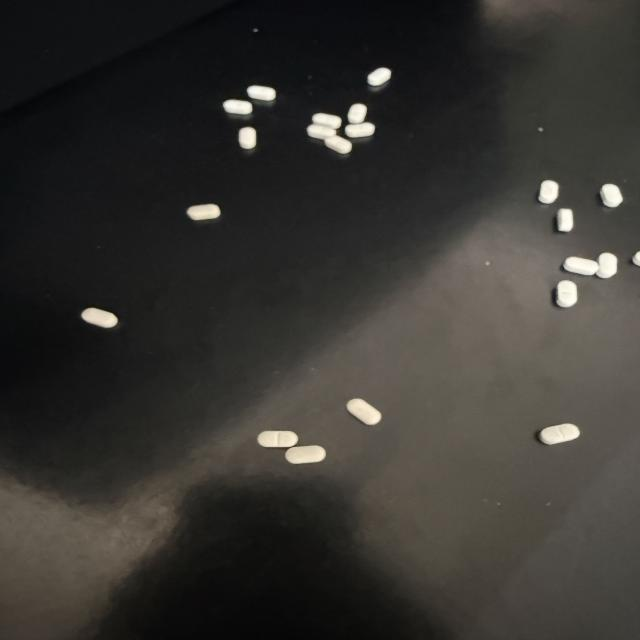pill: (347, 399, 381, 425), (539, 424, 579, 444), (82, 308, 118, 328), (286, 446, 325, 463), (258, 431, 298, 447), (563, 257, 598, 275), (556, 280, 577, 307), (187, 204, 220, 220), (596, 253, 617, 278), (600, 184, 622, 207), (312, 113, 341, 129), (325, 136, 352, 153), (539, 180, 558, 203), (307, 124, 336, 139), (247, 86, 276, 101), (367, 68, 391, 86), (345, 123, 375, 137), (223, 100, 252, 114), (239, 127, 256, 149), (348, 104, 367, 123), (557, 209, 573, 231), (632, 252, 639, 266)
